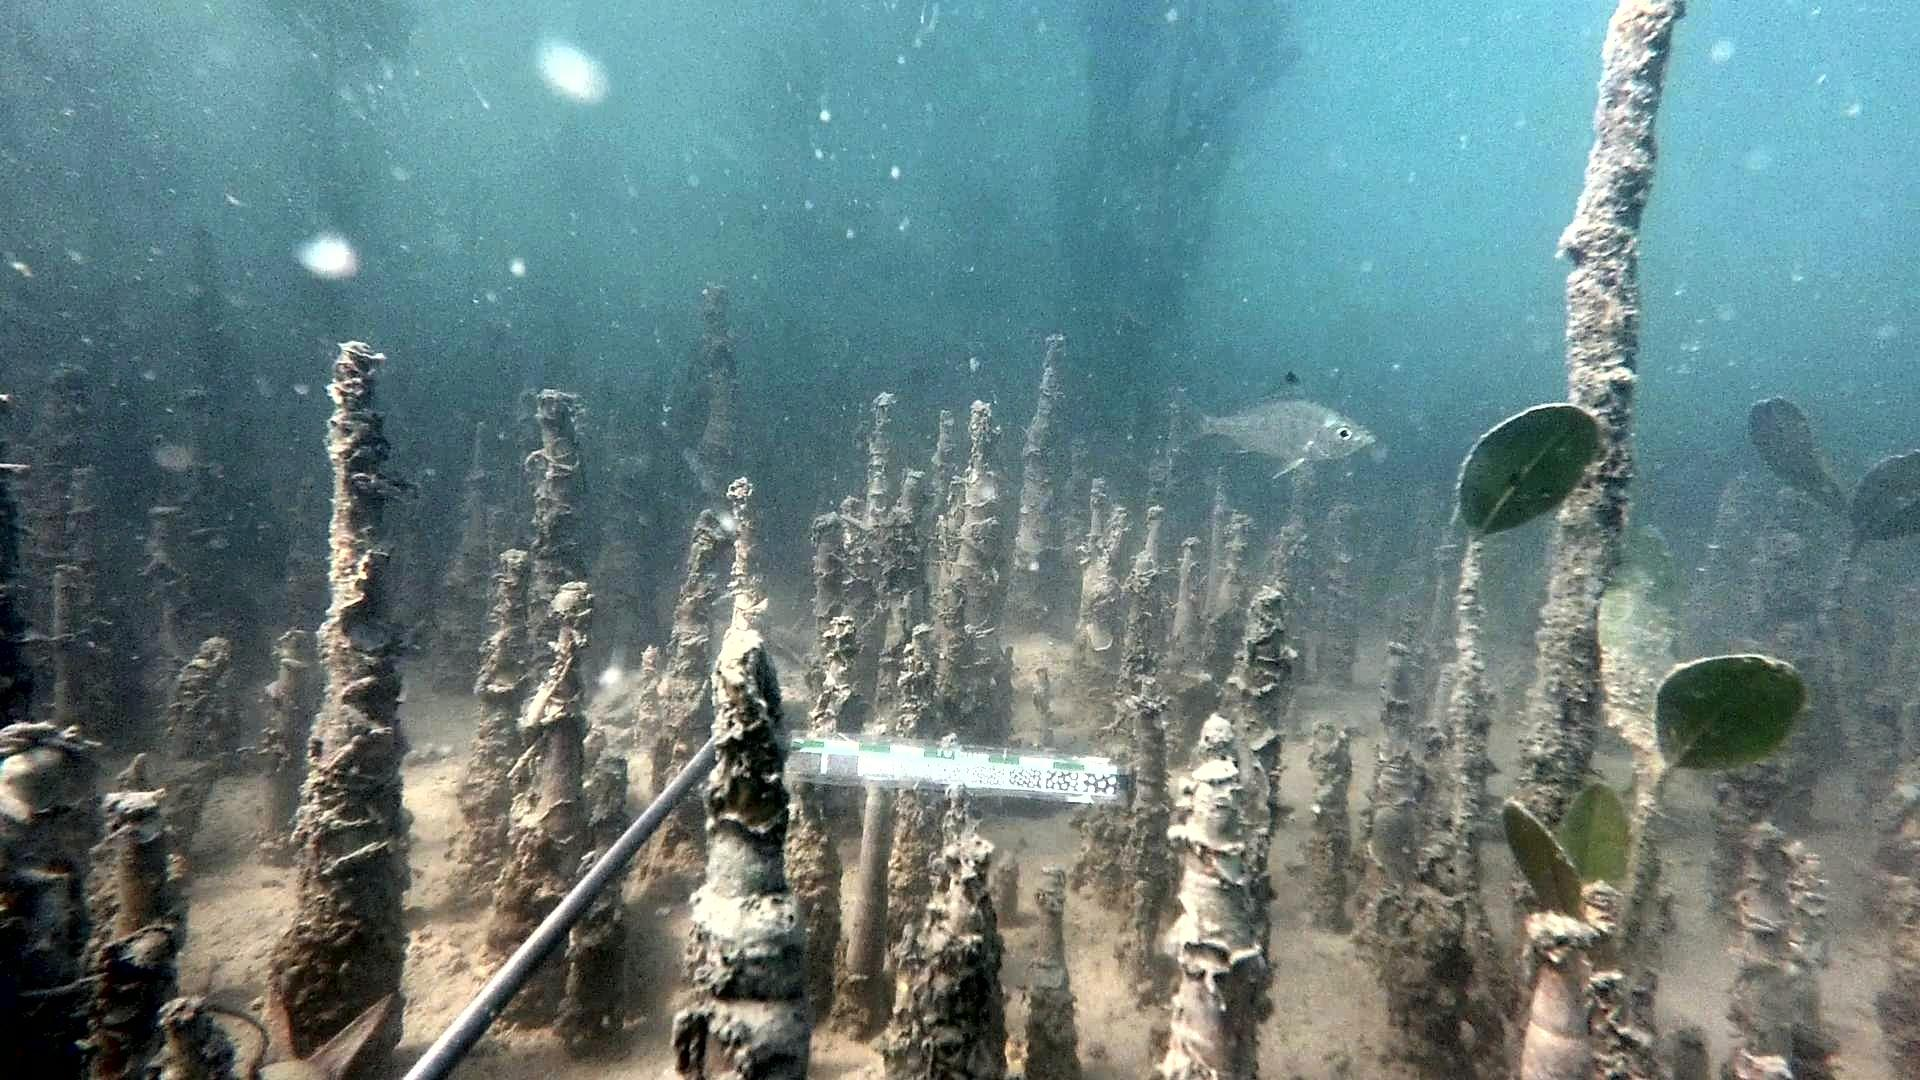gerres: (1163, 368, 1381, 480)
